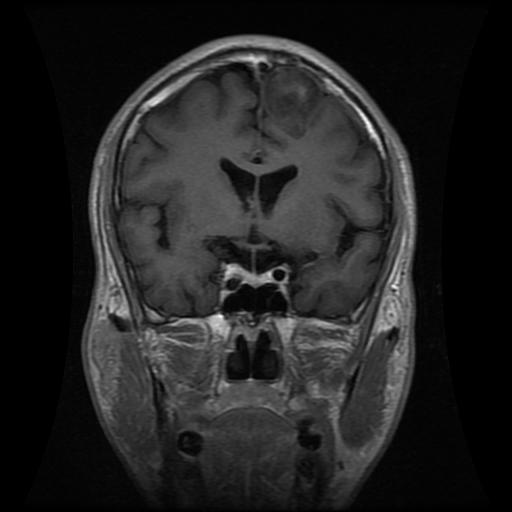Gliomia_tumour: (259, 65, 324, 137)
